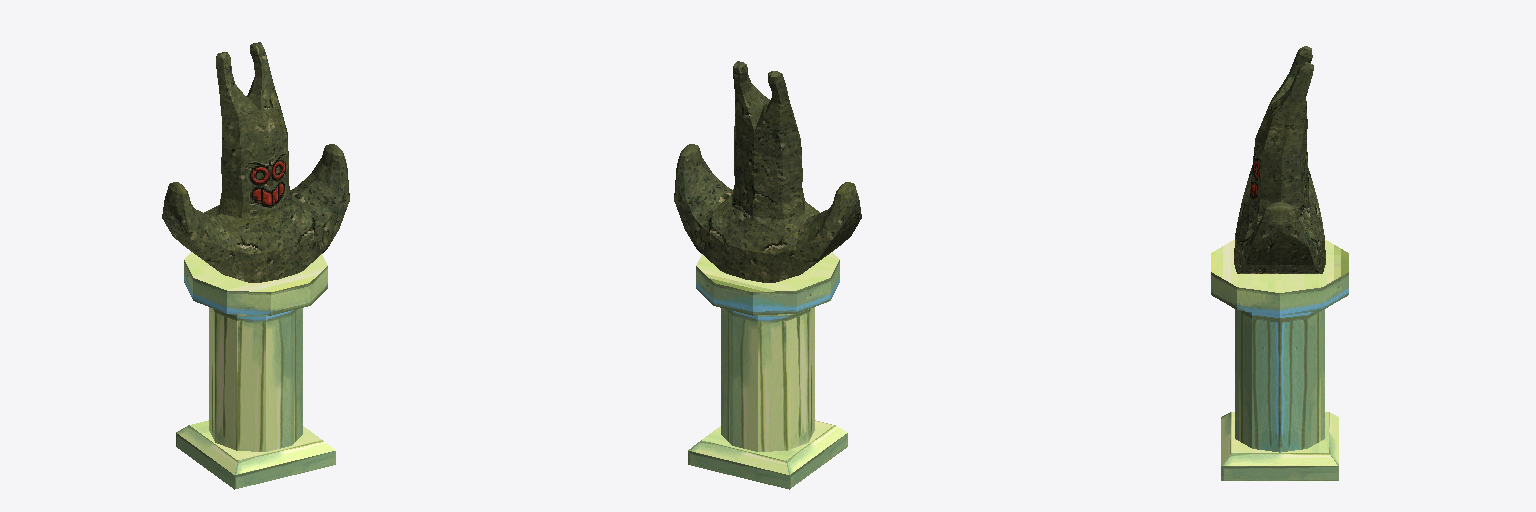
The picture shows the model from 3 angles: view 1: azimuth 30°, elevation 25°; view 2: azimuth 150°, elevation 25°; view 3: azimuth 270°, elevation 25°; orthographic projection.
Visible parts, largest first — view 1: 69, 70; view 2: 69, 70; view 3: 69, 70.
Part boxes in pixels (x1,y1,x2,y2): 69: (176, 252, 335, 489); 70: (162, 42, 349, 282); 69: (688, 252, 847, 489); 70: (674, 61, 861, 282); 69: (1211, 240, 1348, 480); 70: (1234, 46, 1325, 273).
Bounding box in the file's own units: 94.81 × 207 × 64.56.
2 materials, 2 textured.